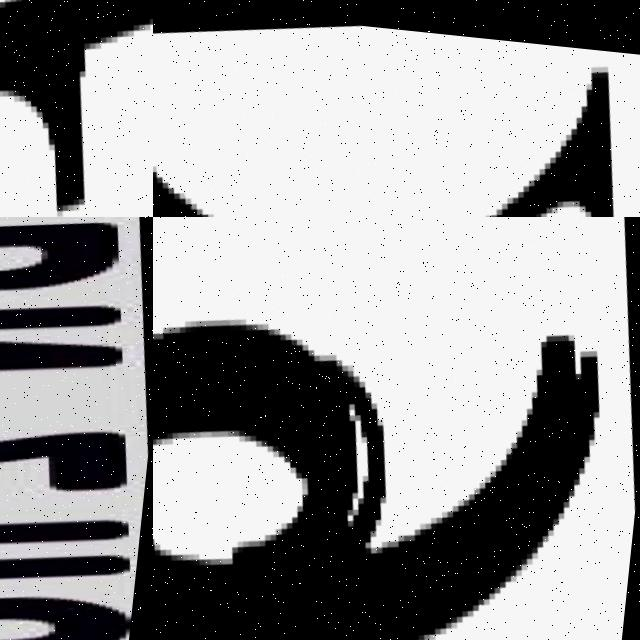6: (0, 527, 143, 640)
9: (153, 238, 640, 640)
D: (0, 217, 147, 358)
F: (0, 0, 153, 217)
H: (0, 455, 143, 639)
N: (0, 242, 153, 437)
X: (153, 12, 640, 217)
Z: (0, 372, 131, 554)
